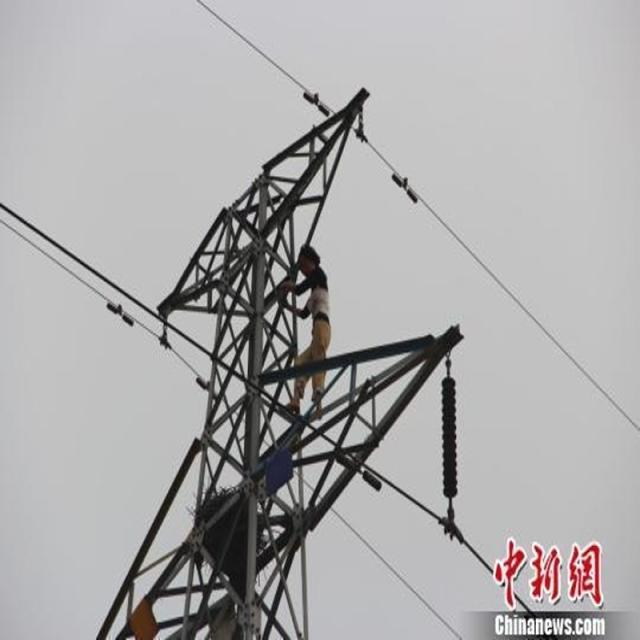non-critical vegetation: (126, 88, 446, 627)
